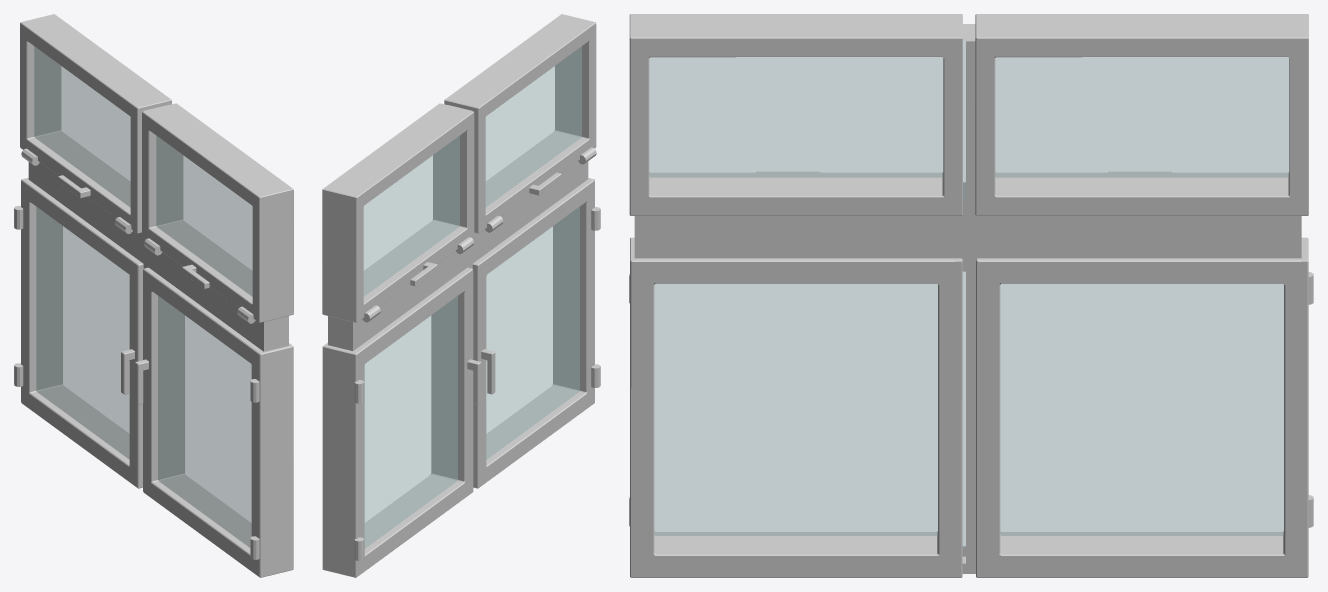
File: window.fbx
3 renders of one model, left to right at view 1: azimuth 30°, elevation 25°; view 2: azimuth 150°, elevation 25°; view 3: azimuth 270°, elevation 25°, orthographic. The views are drawn at different scales.
Parts seen in each view (by area): view 1: pPlane2; view 2: pPlane2; view 3: pPlane2.
Part boxes in pixels (left/top/right/bottom): pPlane2: left=14, top=14, right=293, bottom=577; pPlane2: left=322, top=14, right=600, bottom=577; pPlane2: left=629, top=14, right=1313, bottom=577.
Bounding box in the file's own units: 27.92 × 225 × 258.
